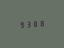eight: (32, 19, 38, 27), (39, 19, 45, 27)
nine: (18, 20, 24, 28)
three: (25, 20, 31, 28)
